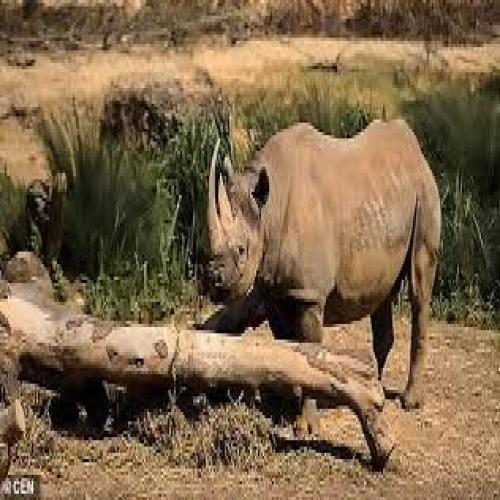rhino-endangered: (191, 98, 443, 426)
